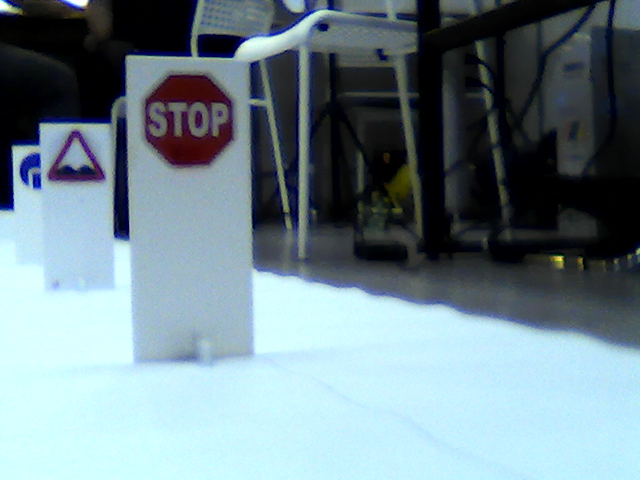Nerov: (44, 126, 107, 189)
Stop: (141, 67, 233, 168)
